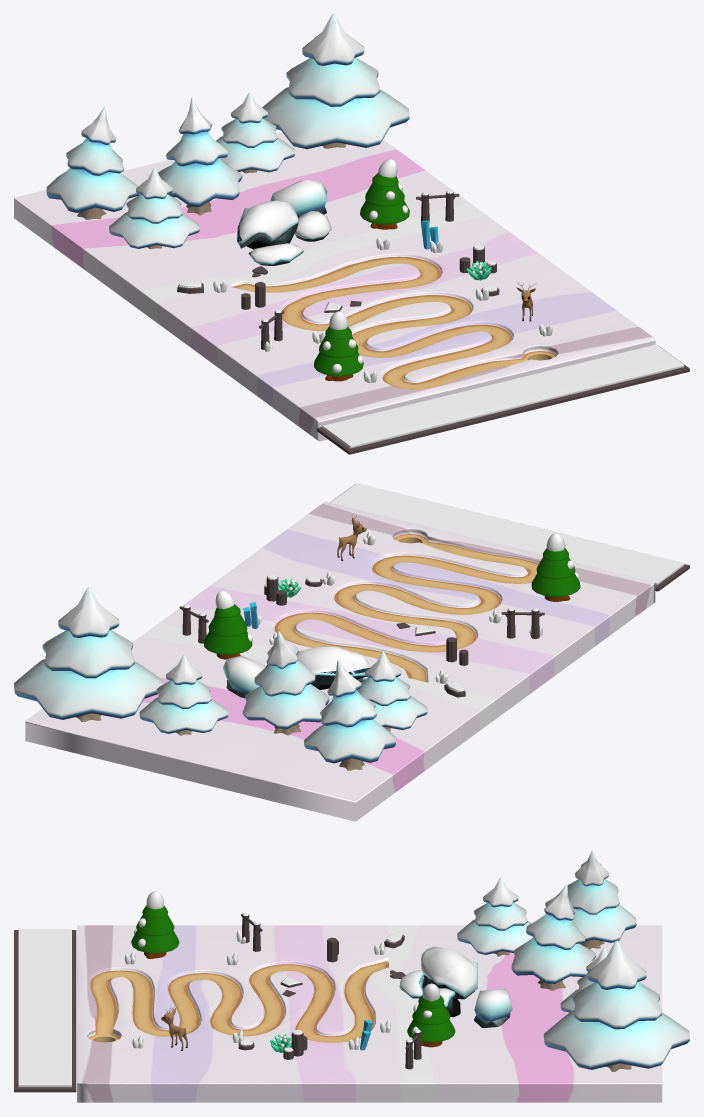
File: snow_brown_map.fbx
The picture shows the model from 3 angles, top to bottom: view 1: azimuth 30°, elevation 25°; view 2: azimuth 150°, elevation 25°; view 3: azimuth 270°, elevation 25°; orthographic projection. The views are drawn at different scales.
Parts seen in each view (by area): view 1: ground, polySurface131, polySurface18, polySurface134, polySurface132, polySurface129, polySurface133, polySurface130, polySurface28, polySurface15, polySurface118; view 2: ground, polySurface131, polySurface18, polySurface132, polySurface129, polySurface130, polySurface134, polySurface133, polySurface118, polySurface15, polySurface43, polySurface115; view 3: ground, polySurface131, polySurface18, polySurface129, polySurface134, polySurface132, polySurface133, polySurface118, polySurface28, polySurface15, polySurface130, polySurface43 (+2 smaller).
Part boxes in pixels (<box>): ground: <box>14,132,655,441</box>; polySurface131: <box>262,14,409,149</box>; polySurface18: <box>322,344,684,448</box>; polySurface134: <box>237,180,331,265</box>; polySurface132: <box>46,106,139,219</box>; polySurface129: <box>158,97,242,215</box>; polySurface133: <box>109,168,199,249</box>; polySurface130: <box>216,92,294,173</box>; polySurface28: <box>317,346,689,454</box>; polySurface15: <box>360,159,409,229</box>; polySurface118: <box>314,311,363,381</box>; ground: <box>25,501,655,821</box>; polySurface131: <box>14,587,163,721</box>; polySurface18: <box>330,483,684,585</box>; polySurface132: <box>304,659,395,770</box>; polySurface129: <box>242,631,329,735</box>; polySurface130: <box>139,655,228,735</box>; polySurface134: <box>222,646,370,698</box>; polySurface133: <box>357,652,427,731</box>; polySurface118: <box>531,533,580,601</box>; polySurface15: <box>203,590,252,659</box>; polySurface43: <box>501,607,544,638</box>; polySurface115: <box>179,604,208,643</box>; ground: <box>77,925,662,1102</box>; polySurface131: <box>543,940,689,1071</box>; polySurface18: <box>18,928,71,1087</box>; polySurface129: <box>511,884,595,990</box>; polySurface134: <box>399,946,512,1027</box>; polySurface132: <box>567,850,636,949</box>; polySurface133: <box>457,877,532,956</box>; polySurface118: <box>131,891,179,958</box>; polySurface28: <box>14,930,76,1092</box>; polySurface15: <box>407,983,455,1047</box>; polySurface130: <box>560,947,608,1012</box>; polySurface43: <box>241,912,262,951</box>.
Bounding box in the file's own units: 1763 × 695 × 2988.
4 materials, 3 textured.
